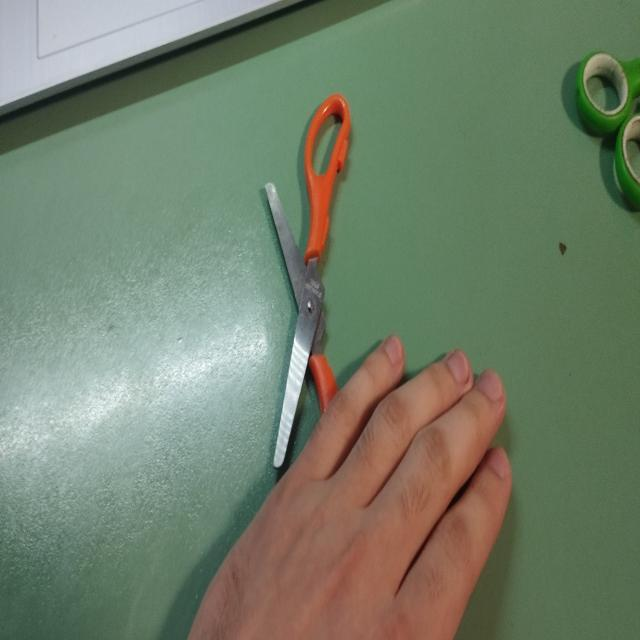tesoura: (258, 84, 364, 546)
